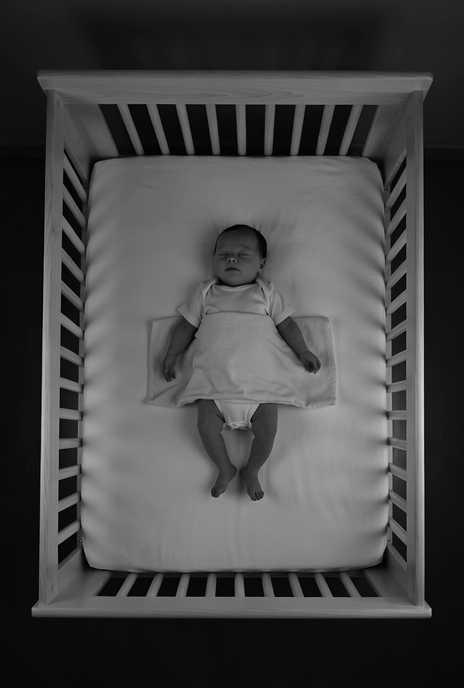baby: (162, 224, 321, 500)
crib: (32, 71, 432, 617)
